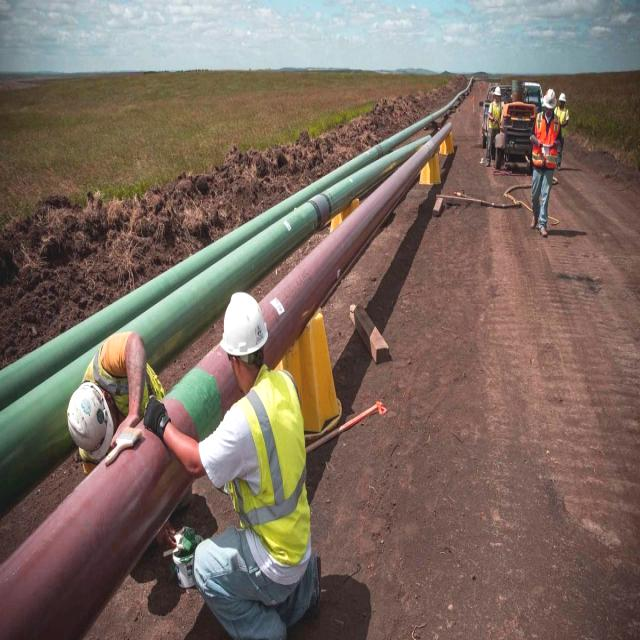hand_glove: (145, 398, 171, 443)
head_helmet: (220, 291, 272, 357), (65, 382, 114, 449), (542, 87, 558, 111), (492, 82, 502, 98), (560, 91, 568, 102)
person: (191, 289, 311, 635), (66, 340, 158, 469), (531, 90, 559, 234), (482, 85, 508, 163), (557, 91, 575, 150)
vest: (232, 403, 308, 558), (99, 347, 165, 401), (538, 116, 560, 166), (491, 98, 503, 124), (560, 106, 570, 132)
